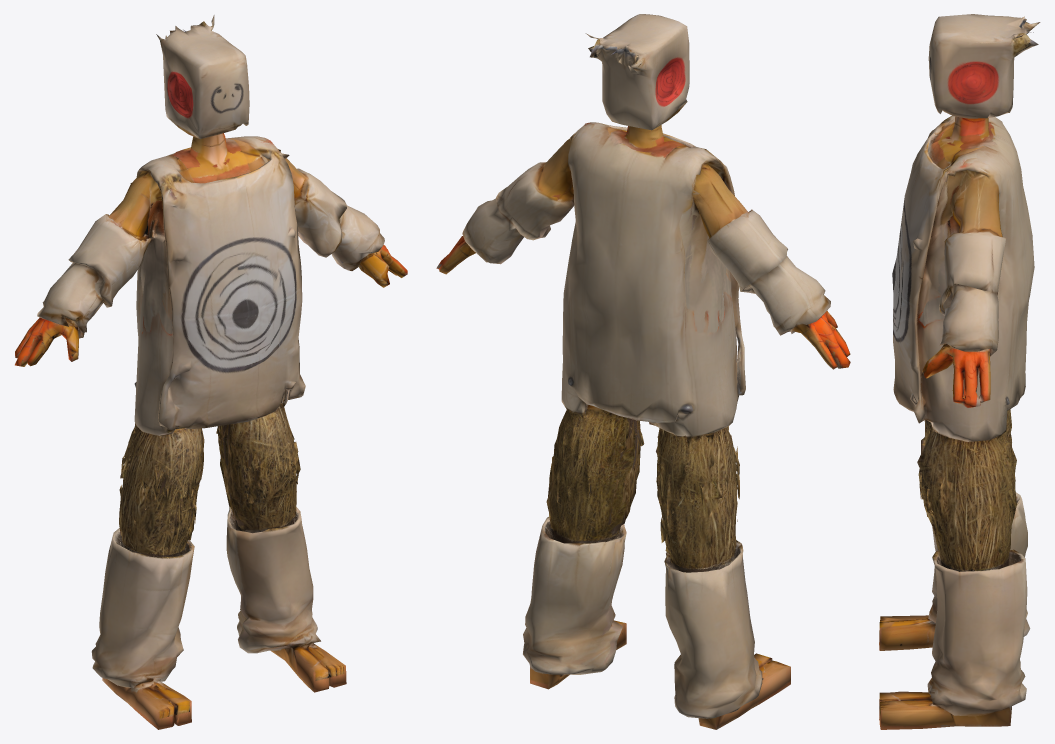
Rendered from target_dummy_shaped_l_0726220332_texture.fbx.
3 views of the same model, side by side, from view 1: azimuth 30°, elevation 25°; view 2: azimuth 150°, elevation 25°; view 3: azimuth 270°, elevation 25° (orthographic). The views are drawn at different scales.
Visible parts, largest first — view 1: input; view 2: input; view 3: input.
Part boxes in pixels (bbox=[...]): input: bbox=[15, 15, 407, 729]; input: bbox=[436, 14, 850, 729]; input: bbox=[879, 14, 1040, 729].
Size of the model in its own units: 122 by 192 by 42.36.
1 material, 1 textured.
